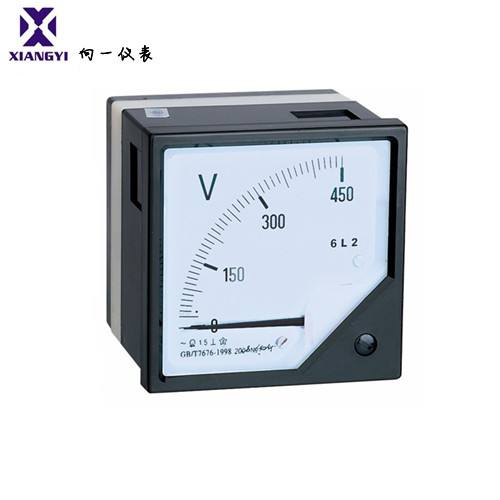pointer: (159, 138, 391, 377)
